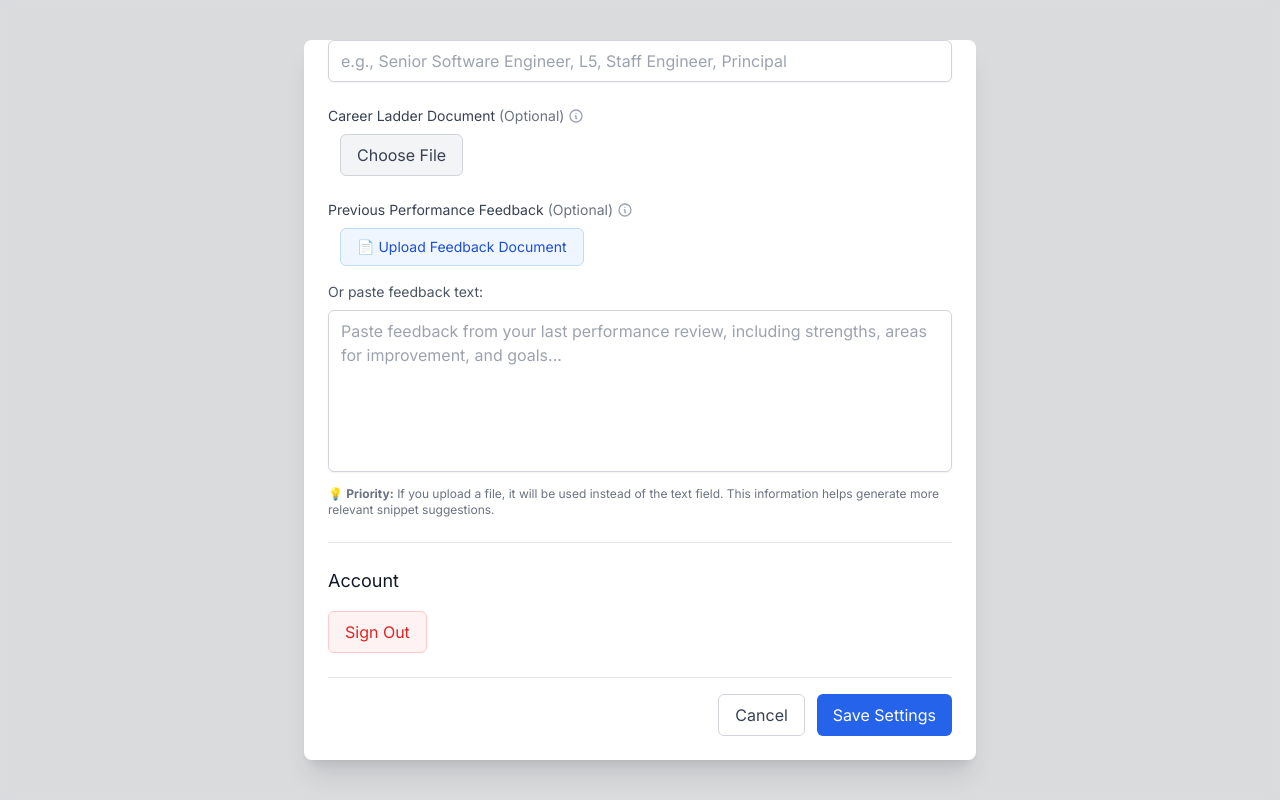
it: Settings Component › Form Validation › should show validation errors for required fields
(page scrolled)
Click the button "Save Settings" at (884, 715), box [817,694,952,736]
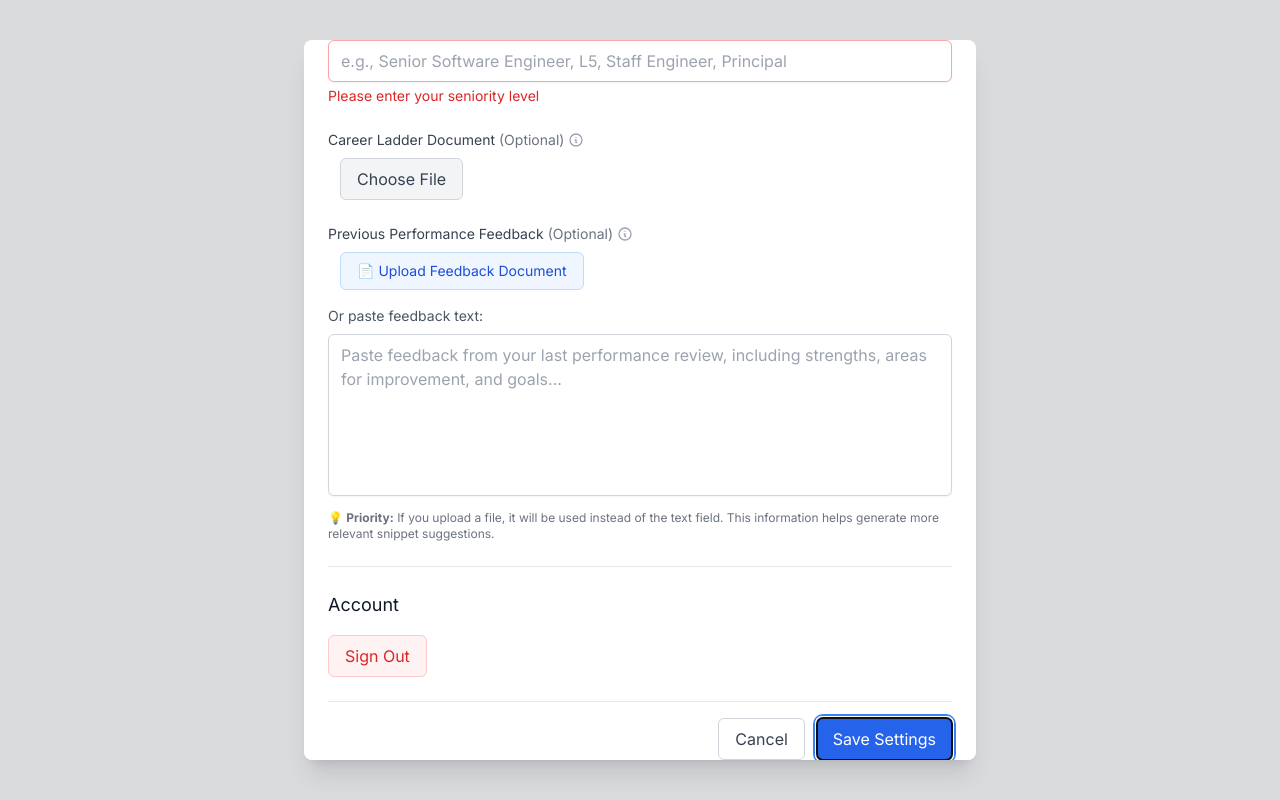
Expected: the text "Please enter your seniority level" is shown, [328,87,539,104]
